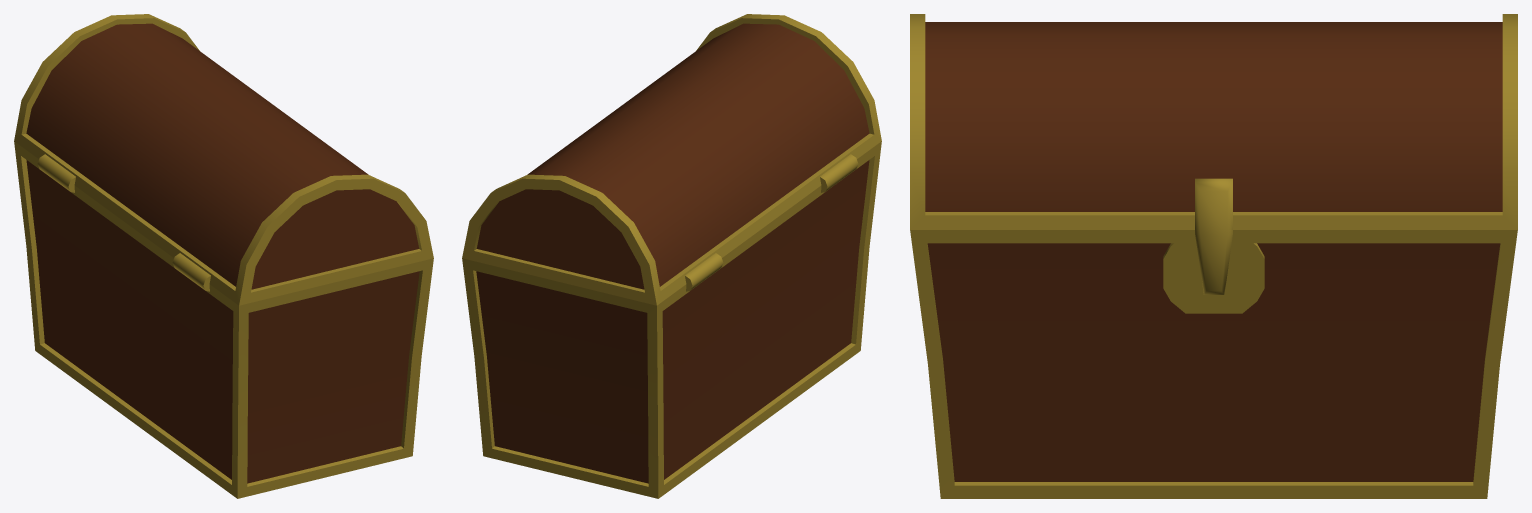
File: TreasureChest.fbx
3 views of the same model, side by side, from view 1: azimuth 30°, elevation 25°; view 2: azimuth 150°, elevation 25°; view 3: azimuth 270°, elevation 25° (orthographic). The views are drawn at different scales.
Parts seen in each view (by area): view 1: Box, Lock; view 2: Box, Lock; view 3: Box, Lock.
Part boxes in pixels (left/top/right/bottom): Box: left=14, top=141, right=433, bottom=498; Lock: left=14, top=14, right=433, bottom=305; Box: left=462, top=141, right=881, bottom=498; Lock: left=462, top=14, right=881, bottom=305; Box: left=910, top=230, right=1517, bottom=498; Lock: left=910, top=14, right=1517, bottom=294.
Size of the model in its own units: 0.2154 by 0.3 by 0.4.
